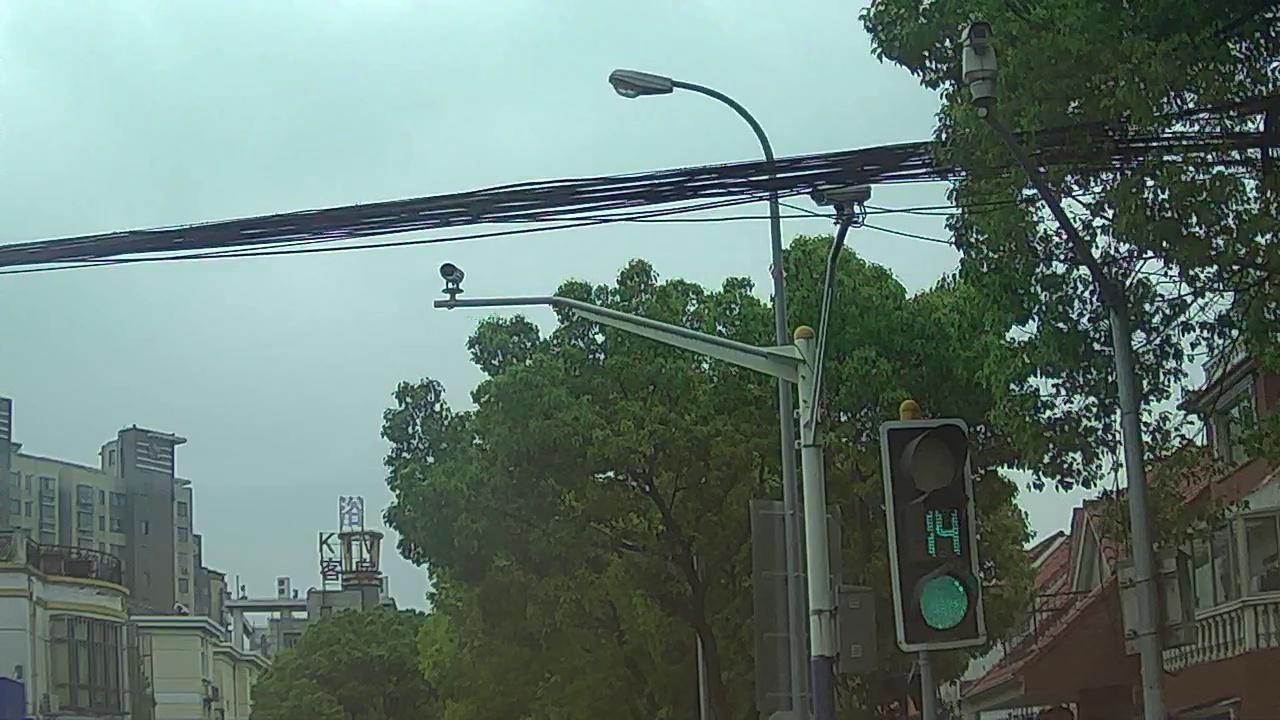traffic_light: (884, 426, 979, 646)
